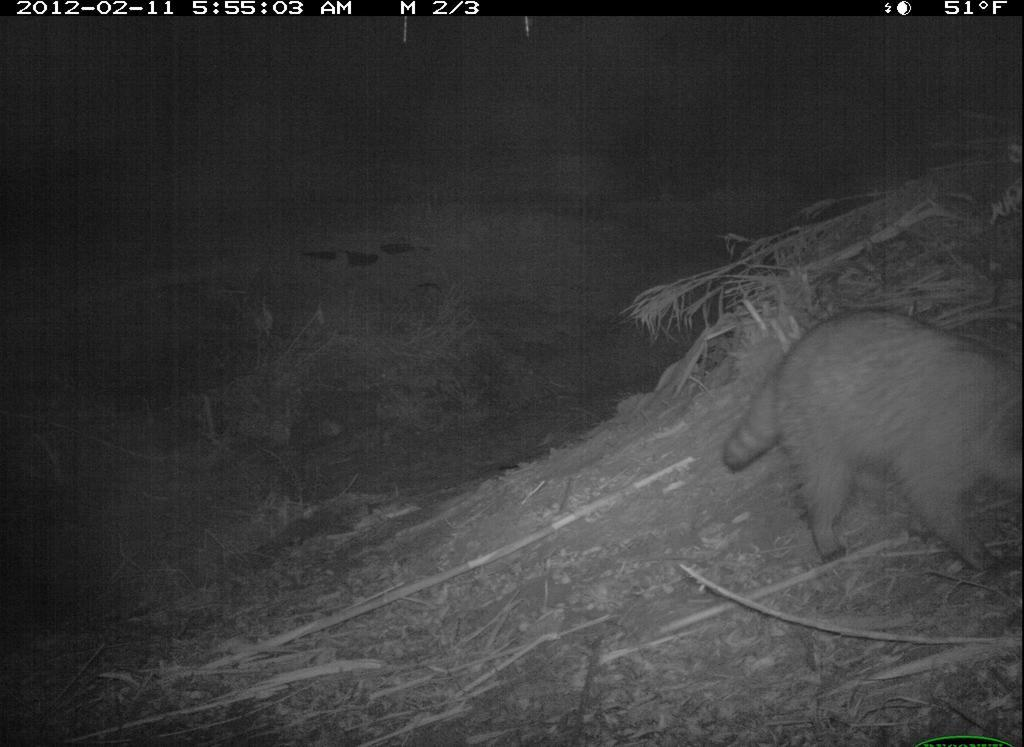raccoon: (710, 290, 1023, 564)
